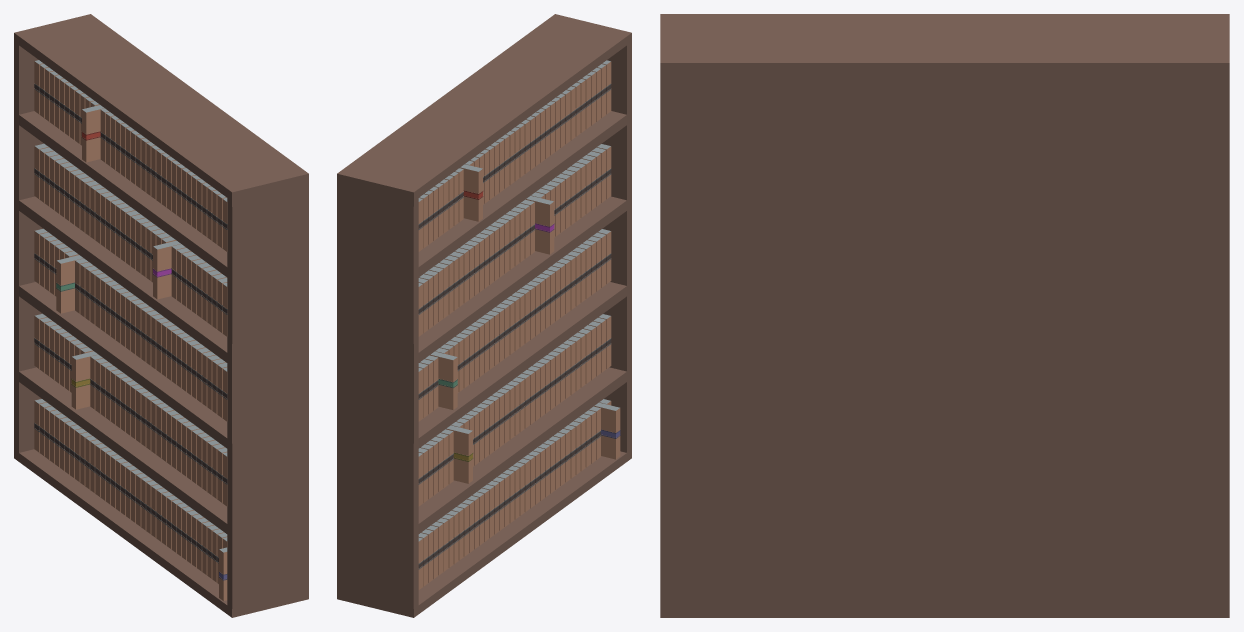
The model's file is Bookshelf.glb.
3 views of the same model, side by side, from view 1: azimuth 30°, elevation 25°; view 2: azimuth 150°, elevation 25°; view 3: azimuth 270°, elevation 25° (orthographic). The views are drawn at different scales.
Parts seen in each view (by area): view 1: Bookshelf_col, Books, GoldBook, MagentaBook, GreenBook, RedBook, PurpleBook; view 2: Bookshelf_col, Books, MagentaBook, GreenBook, GoldBook, RedBook, PurpleBook; view 3: Bookshelf_col.
Part boxes in pixels (x1,y1,x2,y2): Bookshelf_col: (14,14,308,617); Books: (34,60,227,583); GoldBook: (71,351,97,409); MagentaBook: (152,240,180,299); GreenBook: (56,255,83,313); RedBook: (81,105,104,162); PurpleBook: (219,547,227,600); Bookshelf_col: (337,14,631,617); Books: (418,60,611,589); MagentaBook: (525,195,554,254); GreenBook: (430,351,457,409); GoldBook: (446,425,473,483); RedBook: (459,164,483,221); PurpleBook: (594,402,620,459); Bookshelf_col: (660,14,1229,617).
Size of the model in its own units: 0.6481 by 3.43 by 3.19.
Materials: 1 (1 with a texture image).
